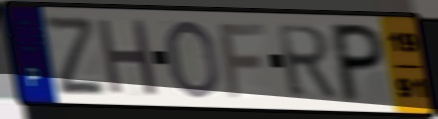F: (216, 21, 268, 101)
H: (94, 15, 161, 99)
O: (165, 17, 223, 101)
P: (332, 20, 387, 107)
R: (274, 23, 341, 101)
Z: (39, 13, 109, 97)
